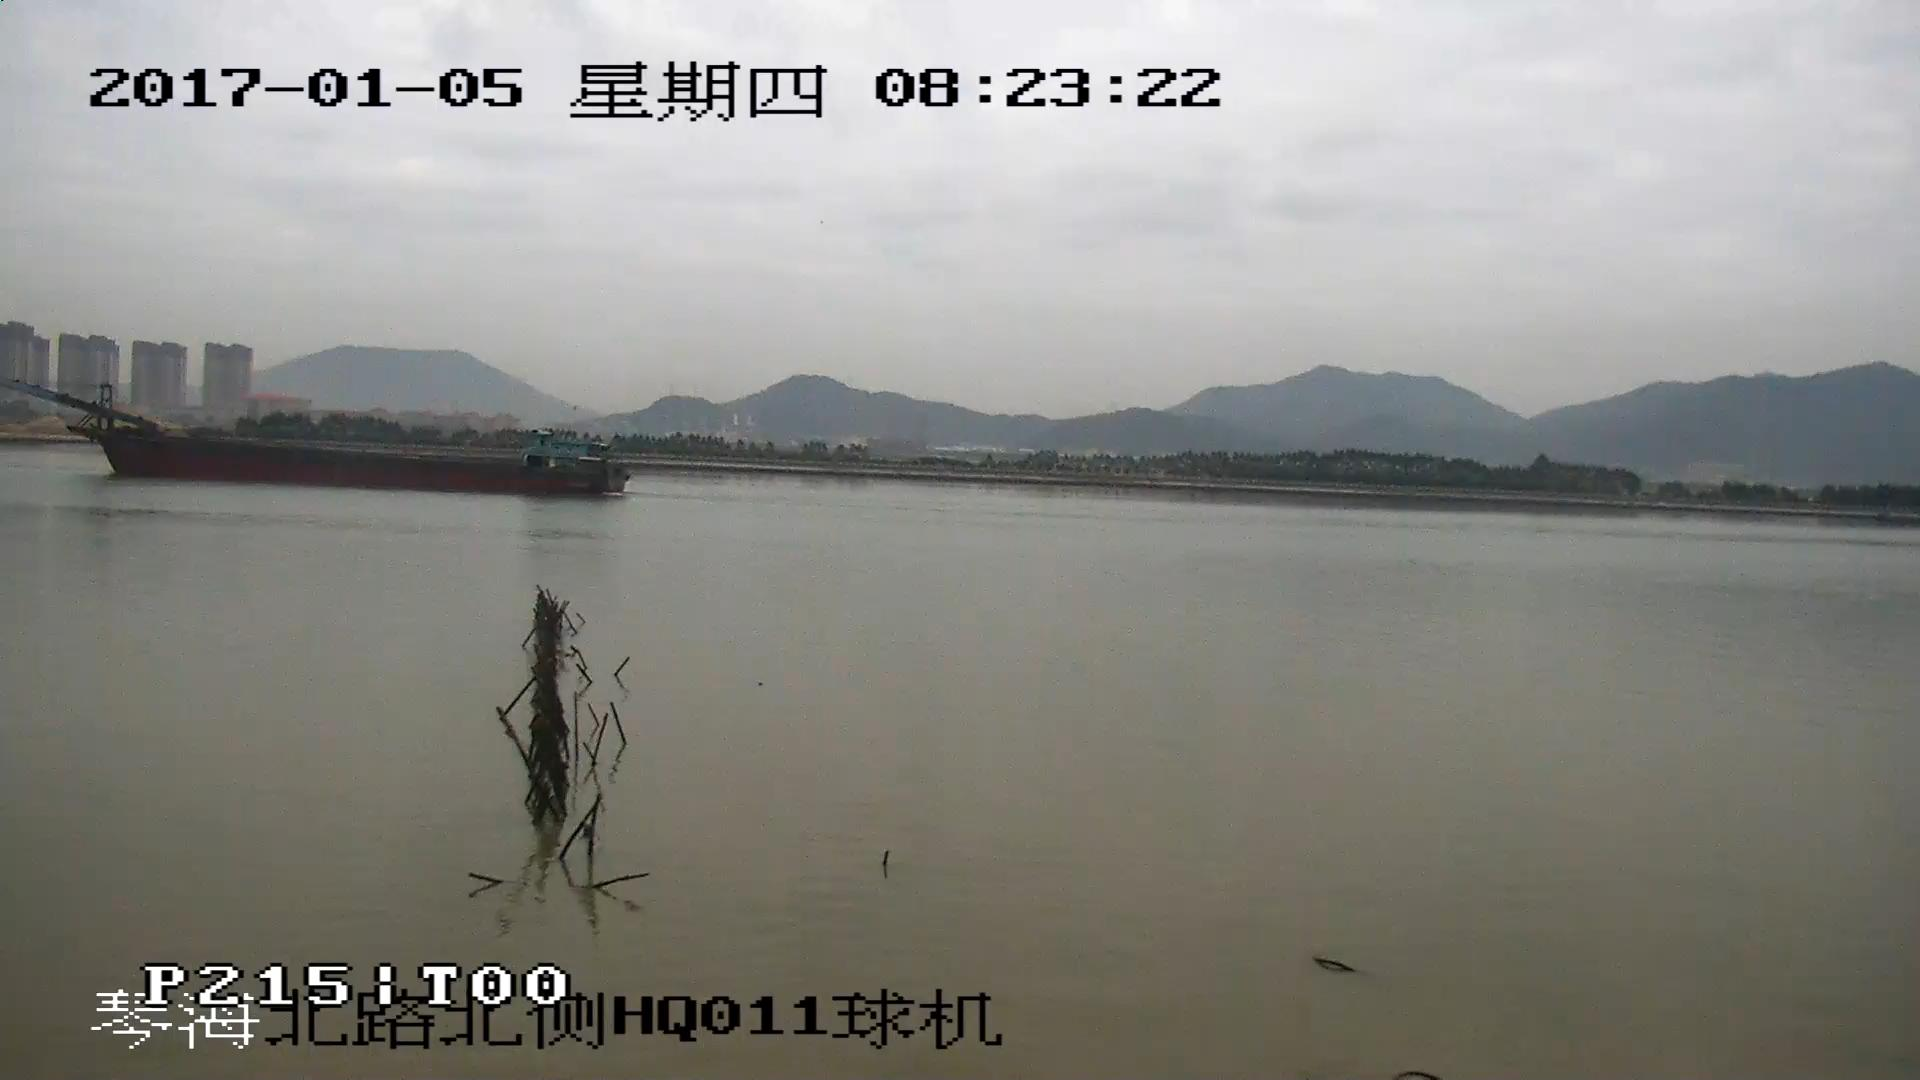bulk cargo carrier: (1, 378, 632, 499)
